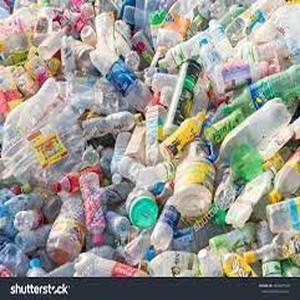Plastic: (215, 95, 293, 169), (159, 107, 205, 161), (78, 174, 110, 245), (158, 31, 208, 71), (82, 110, 145, 139)
